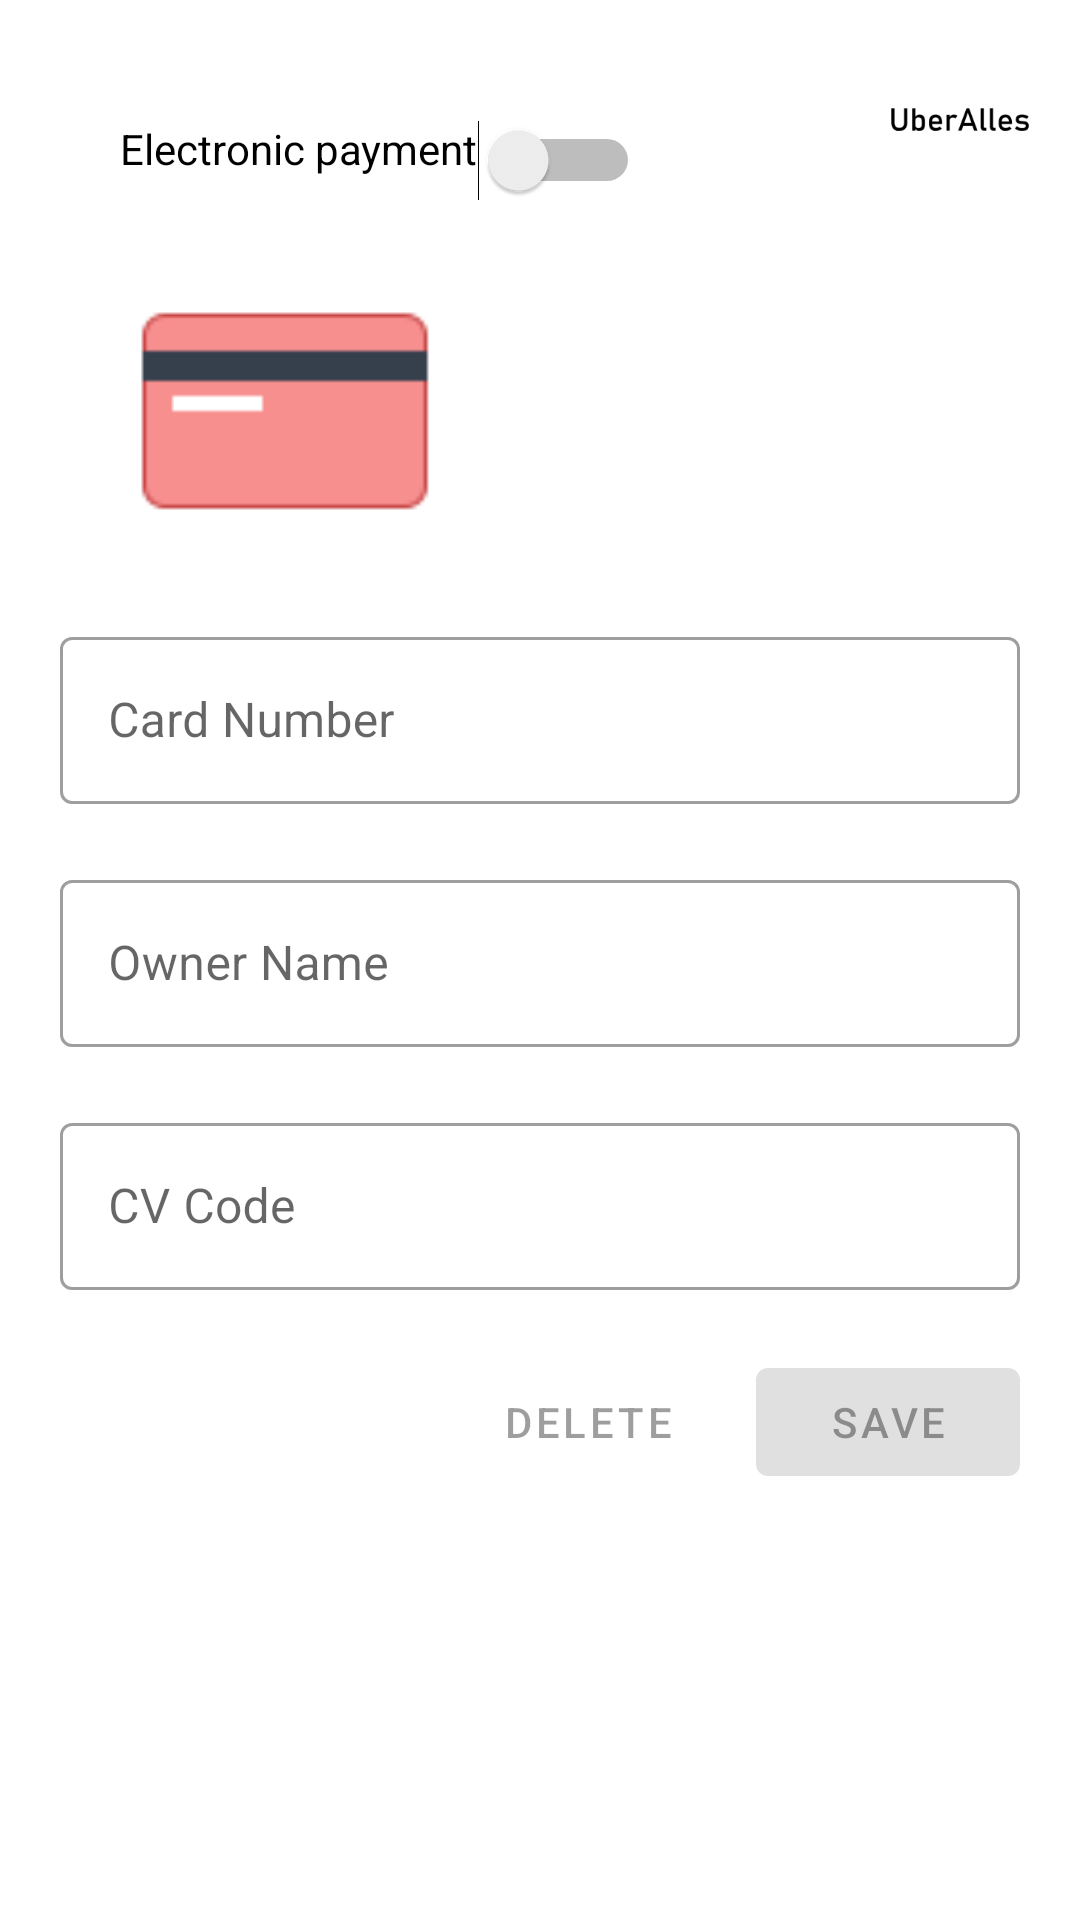

Icons on this 1080 x 1920 Android screen, each with the point to tap as (x=x, y=y):
credit card: (x=285, y=411)
